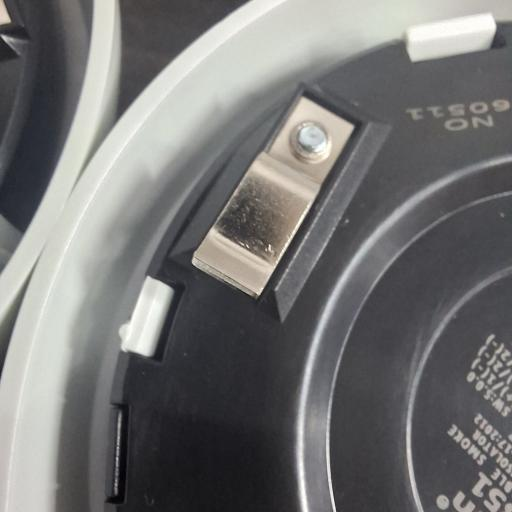yaysiz: (188, 90, 360, 304)
